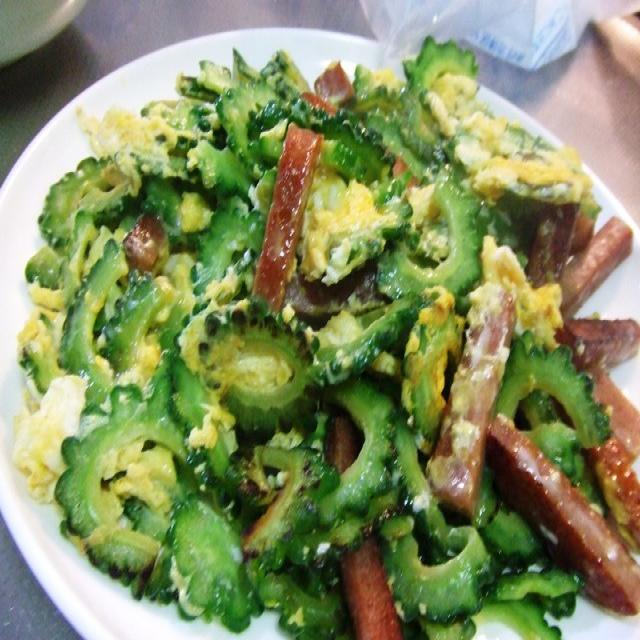熟制海鲜: (0, 10, 638, 640)
